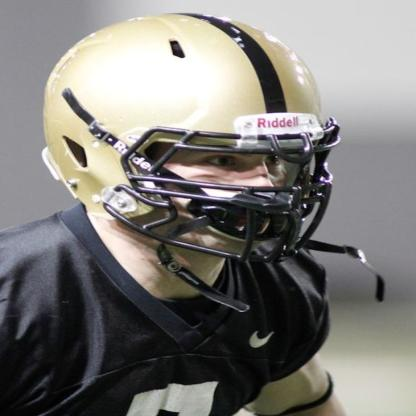Helmet: (40, 11, 388, 316)
